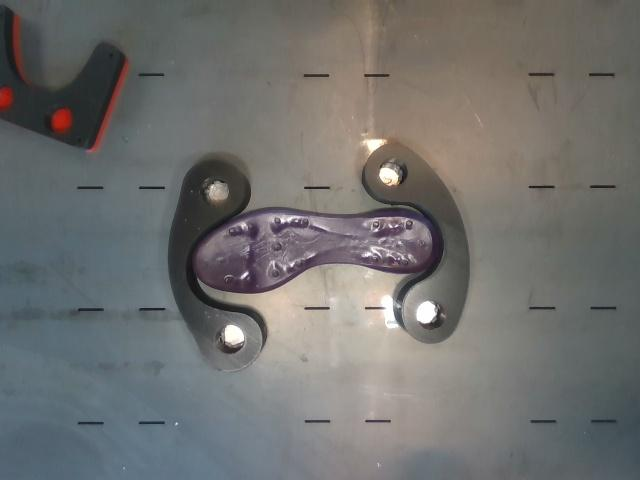shoes: (192, 208, 439, 293)
